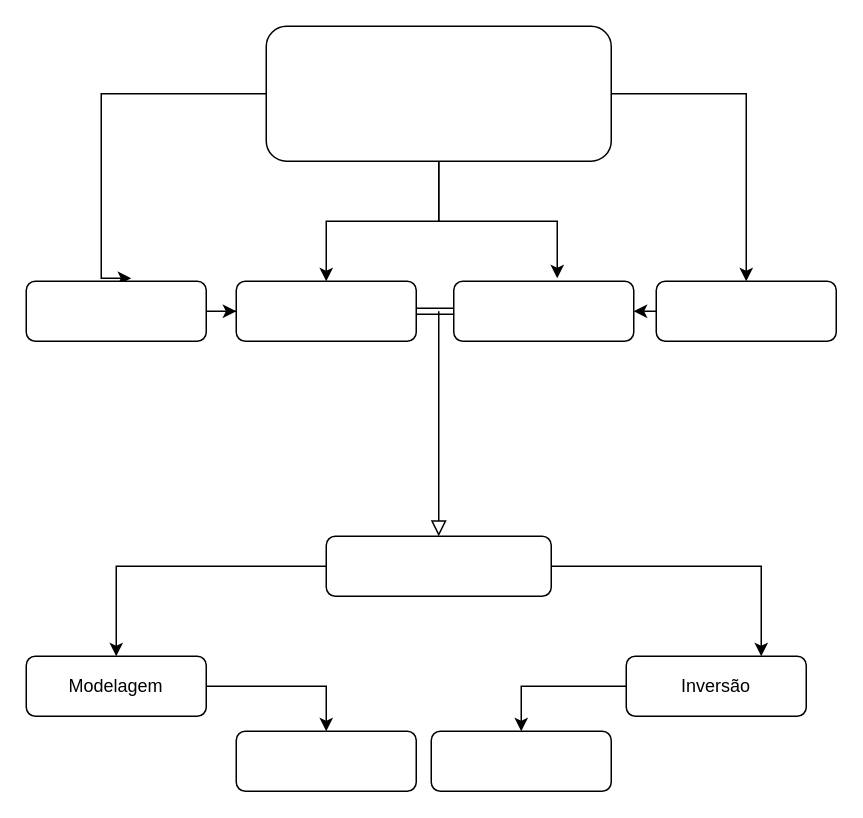
The diagram is 863 pixels wide and 818 high, and some of its shapes have lost their labels. Each missing label, with the centre of its shape:
Identificação de Hidrato de gás: the point at 438,93
Metodologia: the point at 438,565
